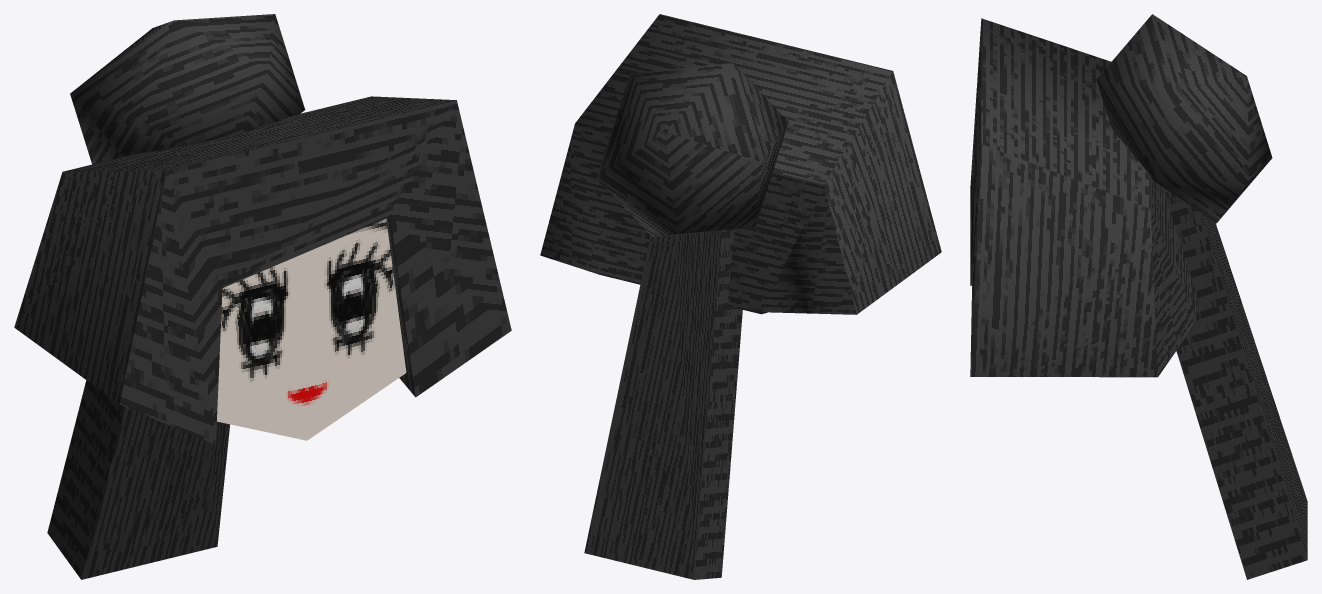
File: C_GH_Head_F7.FBX
3 renders of one model, left to right at view 1: azimuth 30°, elevation 25°; view 2: azimuth 150°, elevation 25°; view 3: azimuth 270°, elevation 25°, orthographic. The views are drawn at different scales.
Parts seen in each view (by area): view 1: Hair, Face; view 2: Hair; view 3: Hair.
Part boxes in pixels (x1,y1,x2,y2): Hair: (14,14,511,579); Face: (217,218,406,440); Hair: (540,14,941,579); Hair: (970,14,1307,579).
Bounding box in the file's own units: 33.15 × 47.57 × 27.74.
2 materials, 2 textured.
